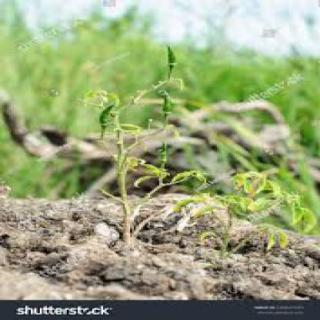green_chilli: (163, 44, 181, 66), (161, 91, 175, 116), (100, 102, 116, 123), (161, 141, 168, 162)
